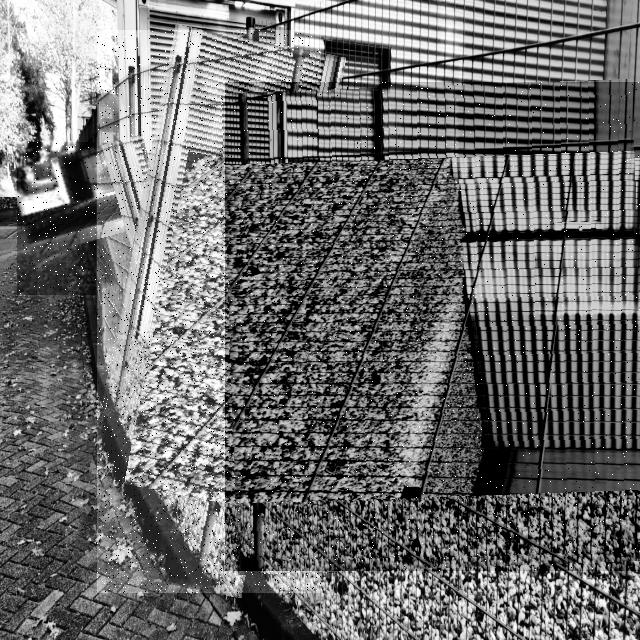fences: (225, 82, 640, 571), (97, 30, 321, 593), (17, 142, 171, 295)
